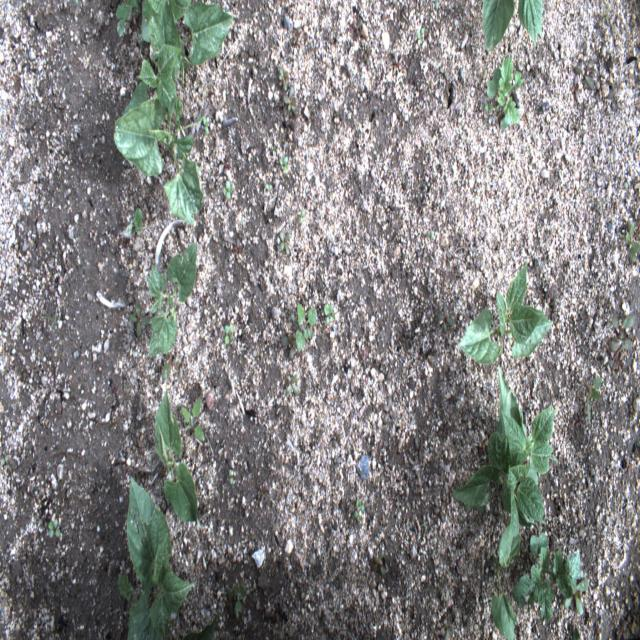crop: (111, 0, 235, 223), (448, 373, 558, 533), (115, 471, 192, 638), (456, 268, 555, 367), (141, 240, 207, 376), (512, 535, 594, 630), (157, 385, 197, 523), (489, 517, 523, 636), (479, 1, 544, 55), (484, 55, 526, 126), (115, 1, 192, 38)
weed: (429, 568, 461, 638), (605, 306, 637, 371), (570, 53, 606, 102), (177, 394, 208, 446), (581, 370, 606, 432), (295, 295, 319, 354), (592, 0, 626, 37), (194, 97, 217, 144), (122, 298, 150, 336), (228, 569, 248, 620), (619, 217, 638, 269), (121, 202, 146, 241), (368, 545, 391, 587), (349, 3, 370, 44), (436, 298, 461, 332), (352, 490, 371, 534), (378, 394, 403, 426), (433, 4, 469, 26), (43, 516, 65, 551), (253, 472, 276, 504), (422, 220, 442, 254), (218, 318, 239, 350), (40, 308, 64, 336), (392, 41, 410, 75), (319, 299, 338, 329), (278, 329, 297, 359), (358, 32, 375, 65), (280, 86, 298, 117), (277, 150, 294, 180), (413, 21, 431, 47), (228, 231, 245, 258), (296, 201, 311, 229), (224, 457, 238, 486), (220, 176, 235, 203), (286, 369, 299, 400), (260, 178, 278, 199), (278, 227, 290, 257), (279, 65, 290, 93)
